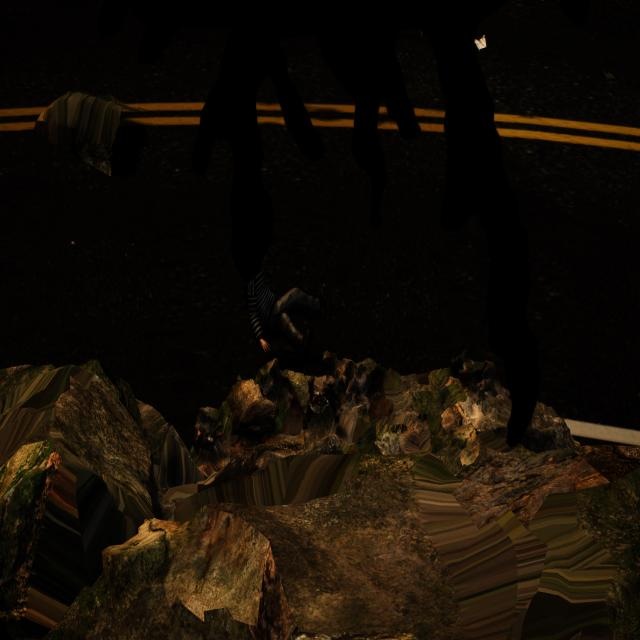Human: (240, 253, 325, 376)
